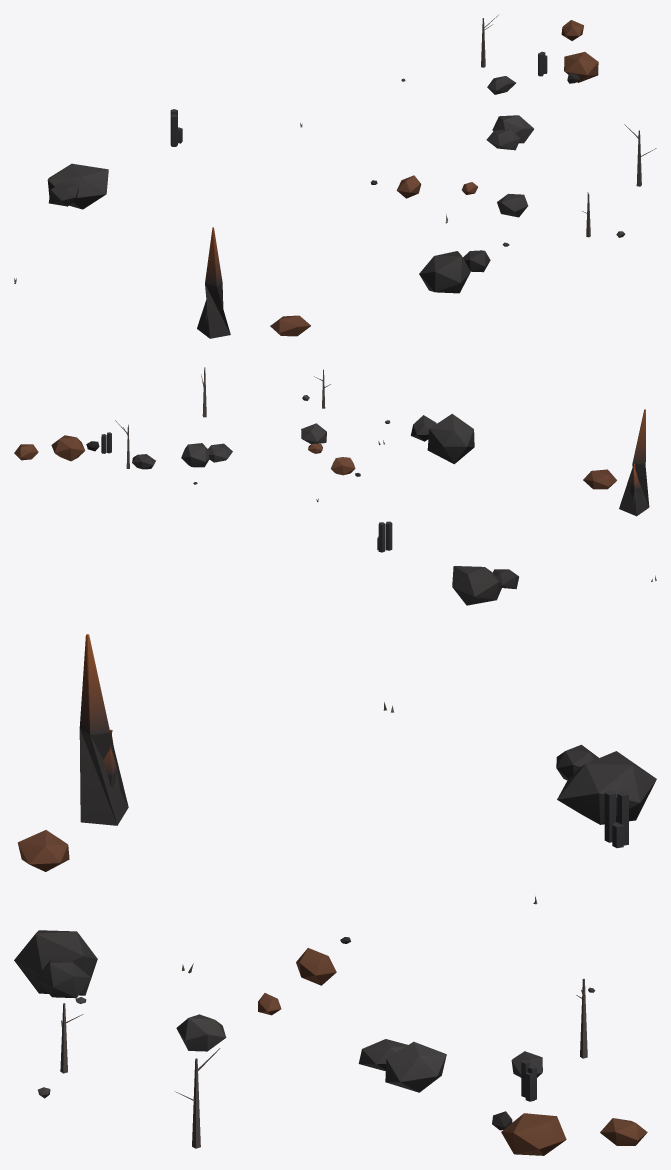
File: ash_land_scatter_c14_30_lod1.glb
The picture shows the model from 3 angles, top to bottom: view 1: azimuth 30°, elevation 25°; view 2: azimuth 150°, elevation 25°; view 3: azimuth 270°, elevation 25°; orthographic projection. The views are drawn at different scales.
Parts seen in each view (by area): view 1: ash_land_scatter_c14_30_lod1; view 2: ash_land_scatter_c14_30_lod1; view 3: ash_land_scatter_c14_30_lod1.
Part boxes in pixels (x1,y1,x2,y2): ash_land_scatter_c14_30_lod1: [14, 14, 656, 338]; ash_land_scatter_c14_30_lod1: [14, 367, 656, 605]; ash_land_scatter_c14_30_lod1: [14, 634, 656, 1155].
Size of the model in its own units: 91.57 by 15.59 by 49.51.
